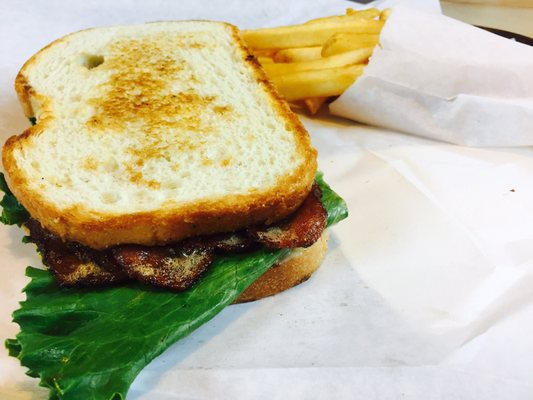soup: (4, 17, 350, 396)
